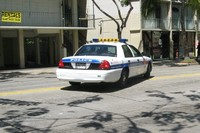car: (56, 38, 153, 89)
